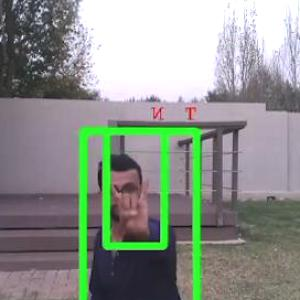takeoff-hand: (99, 171, 159, 240)
